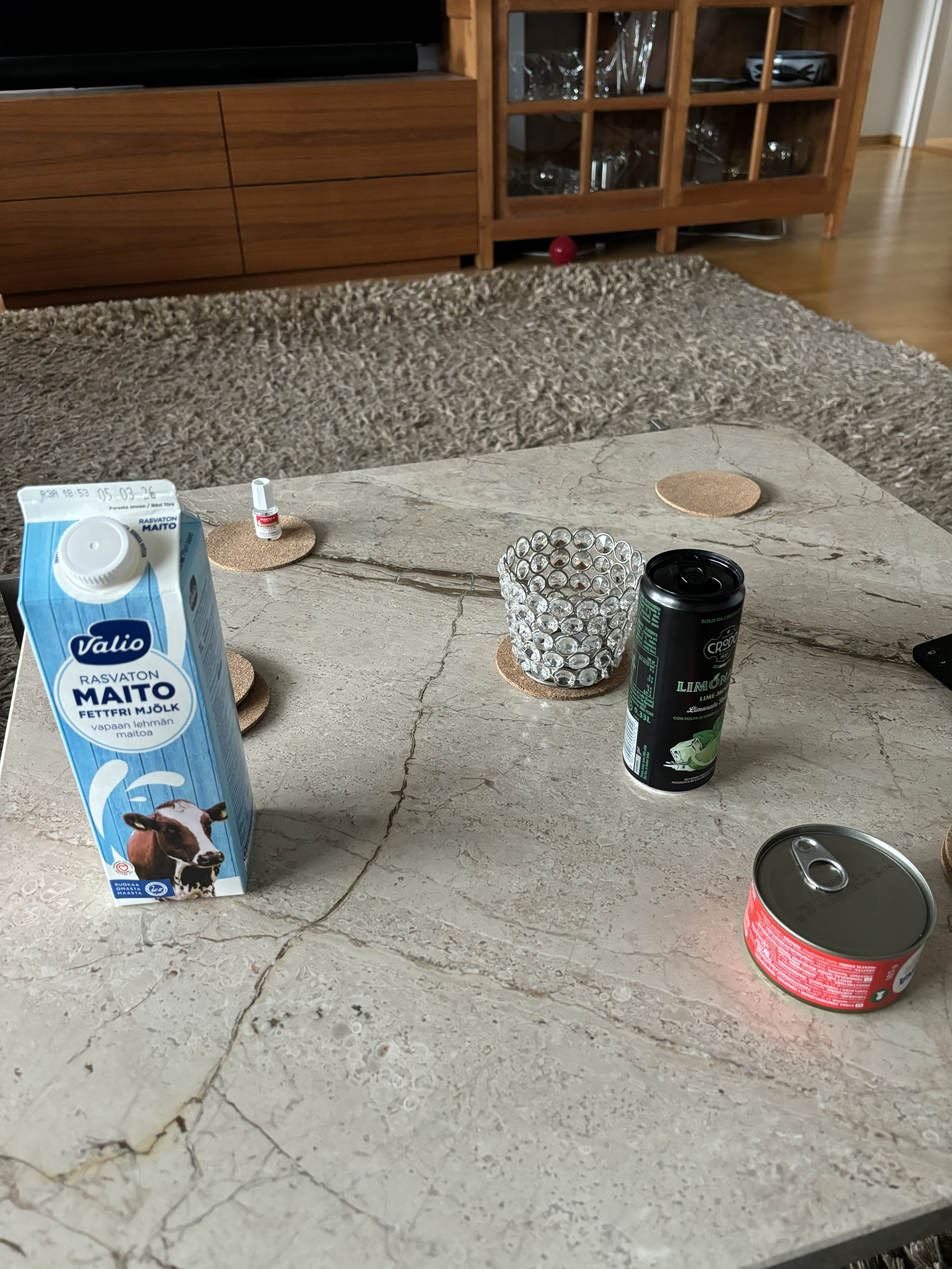Dryckeskartong: (0, 490, 186, 932)
Konservburk: (745, 820, 936, 1021)
Pantburk: (642, 534, 756, 792)
